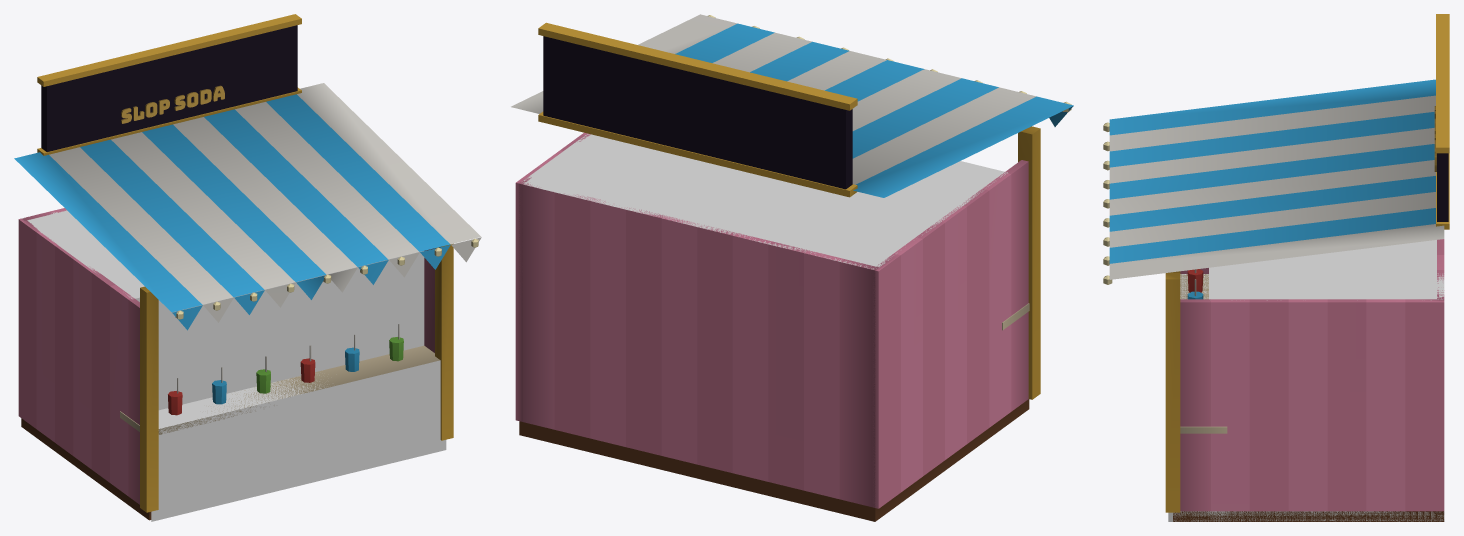
File: c_stall_drinks.glb
3 renders of one model, left to right at view 1: azimuth 30°, elevation 25°; view 2: azimuth 150°, elevation 25°; view 3: azimuth 270°, elevation 25°, orthographic. The views are drawn at different scales.
Visible parts, largest first — view 1: c_stall_drinks, COL_1, COL_0; view 2: c_stall_drinks, COL_0; view 3: c_stall_drinks, COL_0, COL_1.
Boxes of the visible parts, <box> form: c_stall_drinks: <box>14,14,481,520</box>; COL_1: <box>151,360,446,521</box>; COL_0: <box>21,210,424,410</box>; c_stall_drinks: <box>511,14,1073,521</box>; COL_0: <box>522,134,1007,269</box>; c_stall_drinks: <box>1103,14,1449,521</box>; COL_0: <box>1209,240,1444,521</box>; COL_1: <box>1168,274,1227,521</box>.
Bounding box in the file's own units: 4.2 × 4.45 × 3.83.
